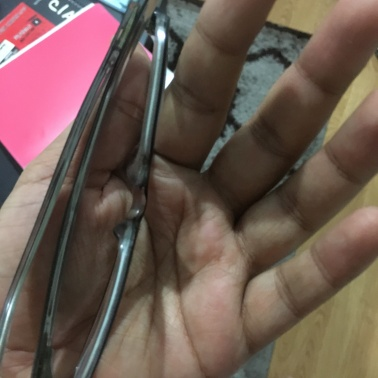glasses: (53, 16, 160, 367)
